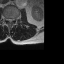CCS_normal: (9, 16, 11, 25)
LFS_normal: (13, 16, 15, 22)
LLS_normal: (11, 16, 13, 23)
RFS_normal: (5, 15, 7, 22)
RLS_normal: (7, 16, 9, 23)
